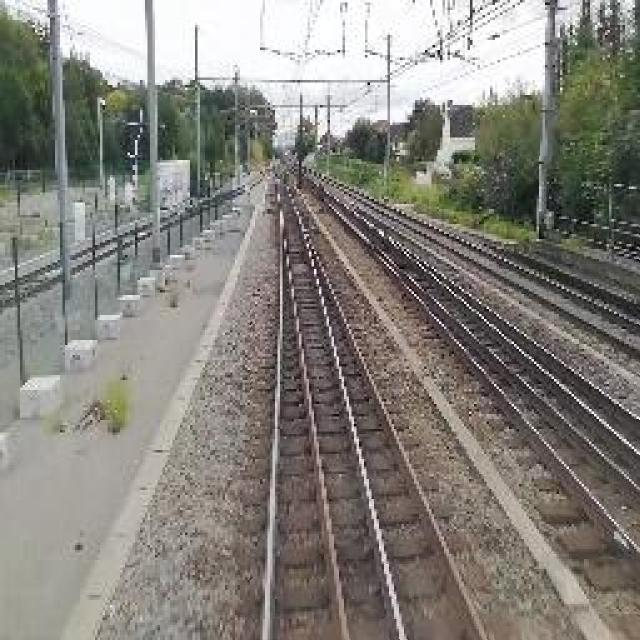rail: (284, 158, 640, 638), (252, 159, 520, 640)
